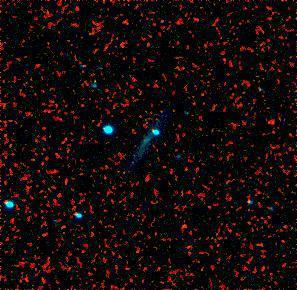star: (136, 119, 166, 149)
